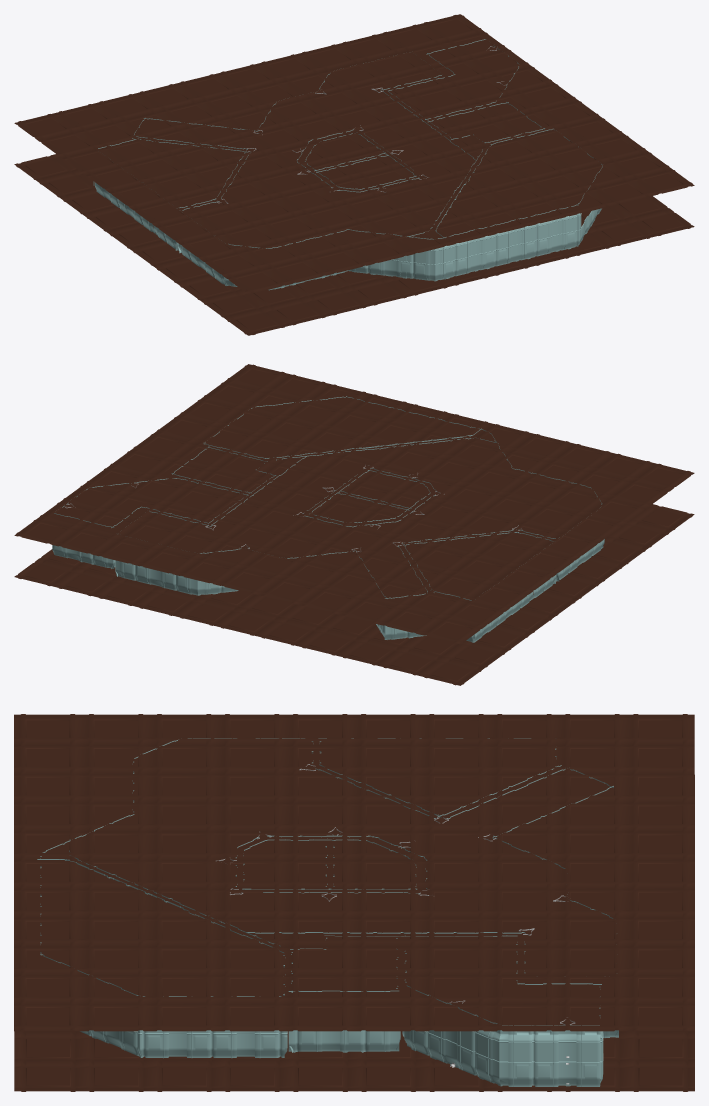
Rendered from spaceShipBody.fbx.
3 views of the same model, one above another, from view 1: azimuth 30°, elevation 25°; view 2: azimuth 150°, elevation 25°; view 3: azimuth 270°, elevation 25° (orthographic). The views are drawn at different scales.
Parts seen in each view (by area): view 1: kiklomaCeiling, kiklomaFloor_Combined, kiklomaWallsCombinedLowPoly; view 2: kiklomaCeiling, kiklomaFloor_Combined, kiklomaWallsCombinedLowPoly; view 3: kiklomaCeiling, kiklomaFloor_Combined, kiklomaWallsCombinedLowPoly.
Part boxes in pixels (x1=…): kiklomaCeiling: x1=14, y1=14, x2=694, y2=294; kiklomaFloor_Combined: x1=14, y1=154, x2=694, y2=335; kiklomaWallsCombinedLowPoly: x1=93, y1=39, x2=602, y2=290; kiklomaCeiling: x1=14, y1=364, x2=694, y2=644; kiklomaFloor_Combined: x1=14, y1=504, x2=694, y2=685; kiklomaWallsCombinedLowPoly: x1=52, y1=396, x2=604, y2=642; kiklomaCeiling: x1=14, y1=714, x2=694, y2=1031; kiklomaFloor_Combined: x1=14, y1=775, x2=694, y2=1091; kiklomaWallsCombinedLowPoly: x1=37, y1=738, x2=618, y2=1086.
Bounding box in the file's own units: 4400 × 410 × 4002.
